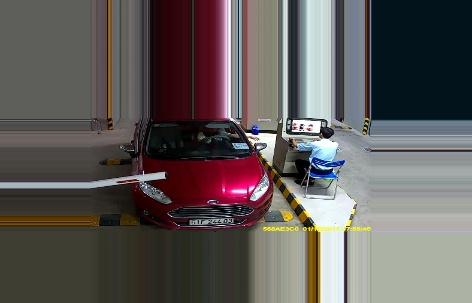plate: (187, 215, 234, 228)
